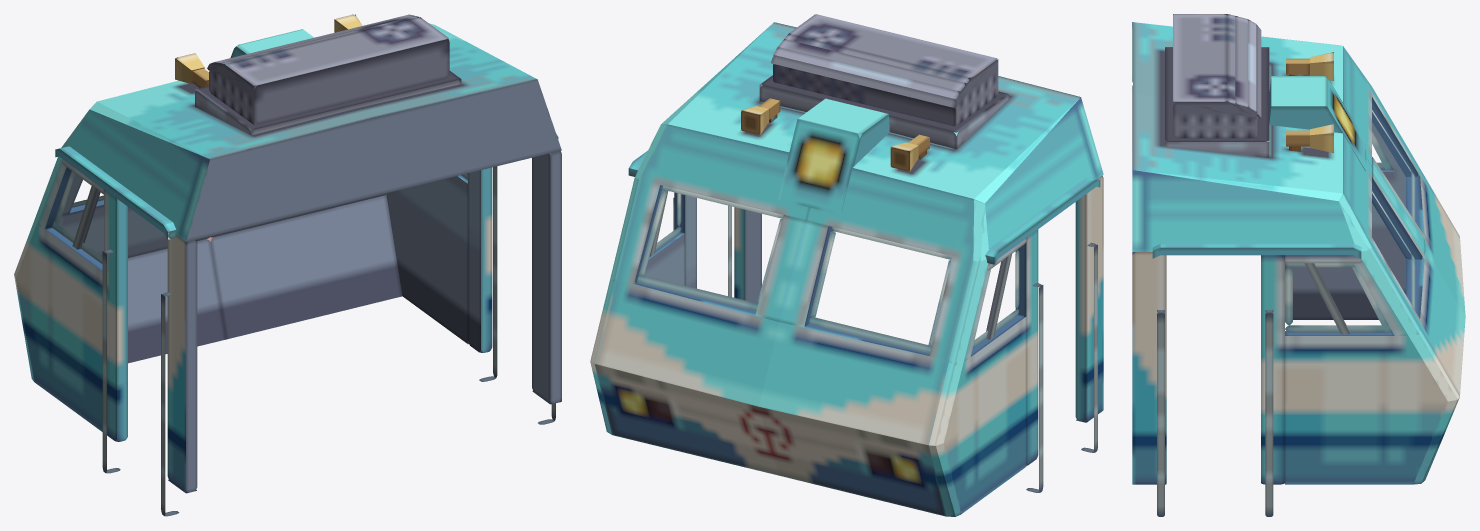
Rendered from ss8_head_early.obj.
3 renders of one model, left to right at view 1: azimuth 30°, elevation 25°; view 2: azimuth 150°, elevation 25°; view 3: azimuth 270°, elevation 25°, orthographic. The views are drawn at different scales.
Parts seen in each view (by area): view 1: cube_selection; view 2: cube_selection; view 3: cube_selection.
Boxes of the visible parts, left/top/right/bottom form: cube_selection: left=14, top=14, right=561, bottom=516; cube_selection: left=590, top=14, right=1103, bottom=516; cube_selection: left=1132, top=14, right=1465, bottom=516.
Bounding box in the file's own units: 3.25 × 3.19 × 2.6.
